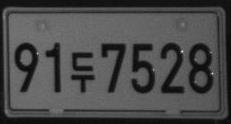1: (43, 41, 68, 92)
2: (160, 41, 185, 94)
5: (131, 42, 156, 94)
7: (100, 42, 127, 92)
8: (188, 42, 215, 94)
9: (13, 41, 38, 93)
두: (71, 51, 95, 93)
